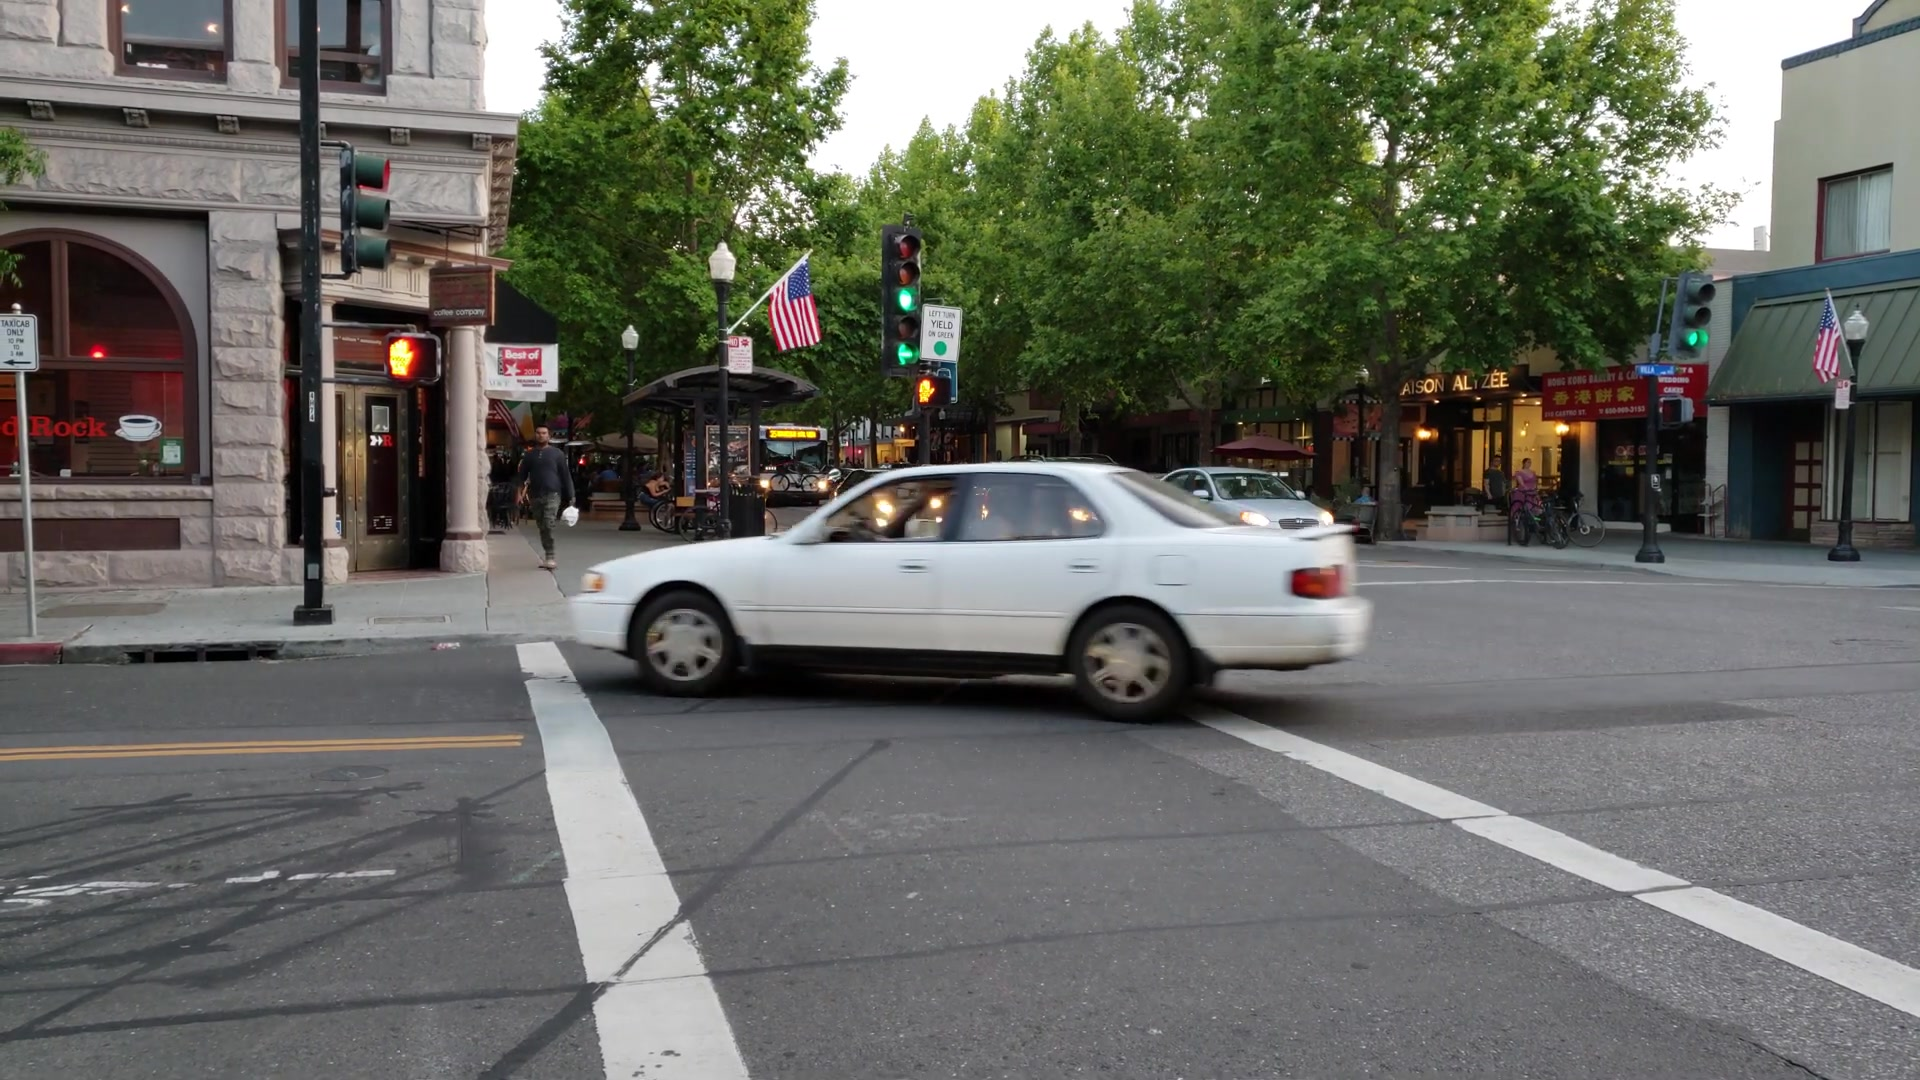vehicle: (571, 462, 1371, 724)
